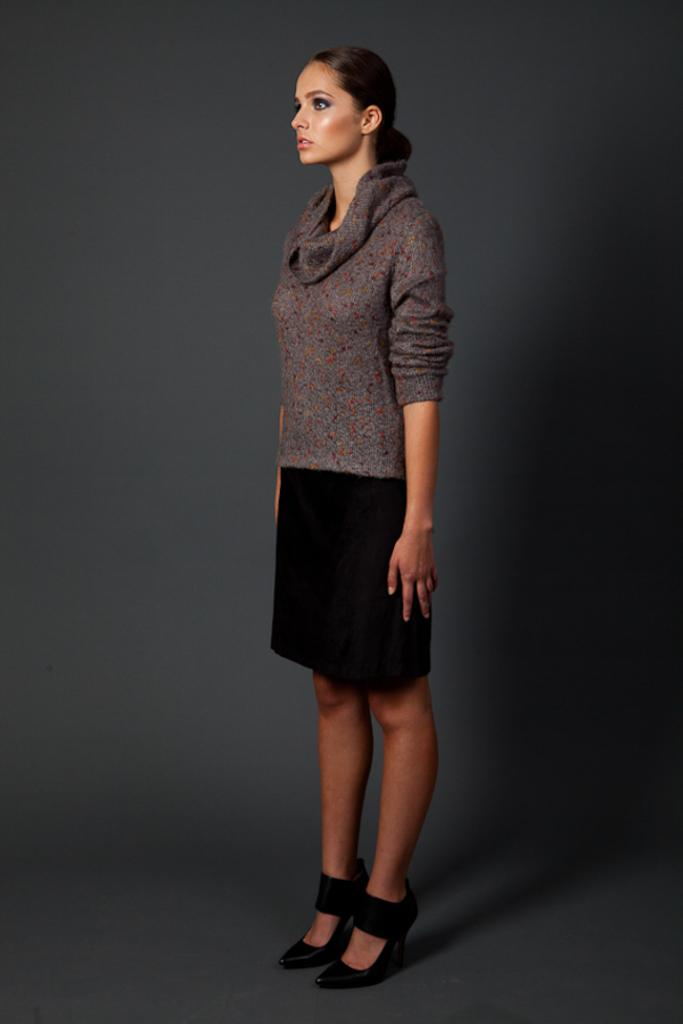no_helmet: (292, 22, 378, 141)
none: (284, 142, 426, 696)
